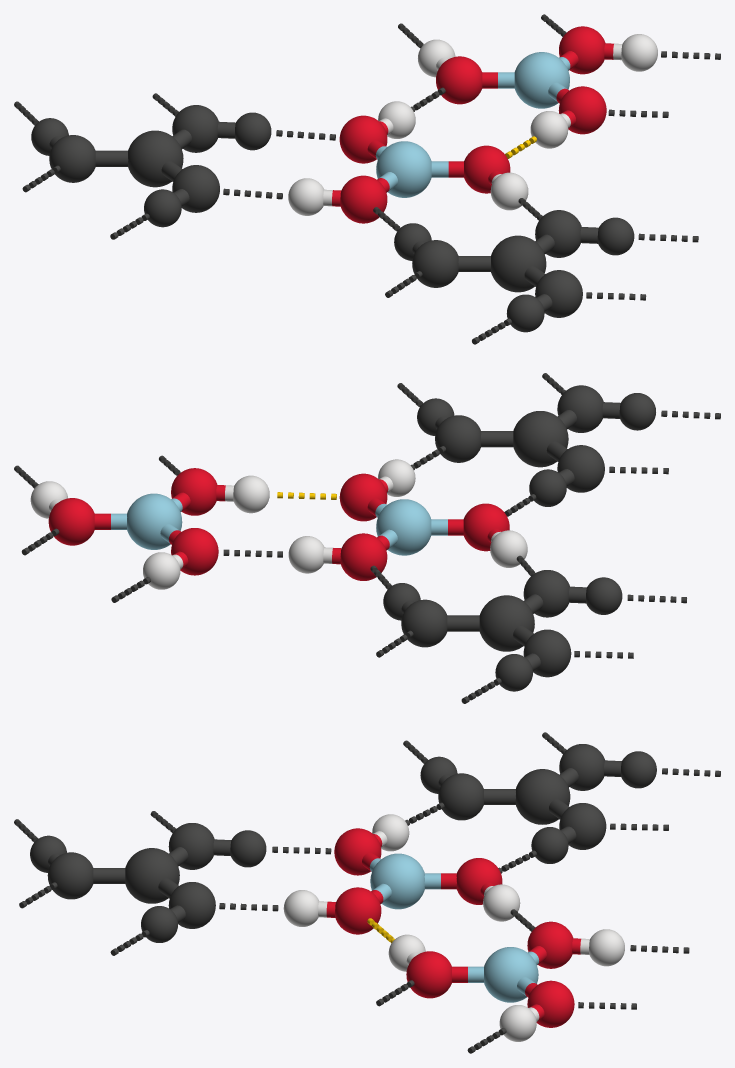
Rendered from jingti4.FBX.
3 renders of one model, top to bottom at view 1: azimuth 30°, elevation 25°; view 2: azimuth 150°, elevation 25°; view 3: azimuth 270°, elevation 25°, orthographic.
Visible parts, largest first — view 1: Box001; view 2: Box001; view 3: Box001.
Part boxes in pixels (x1,y1,x2,y2): Box001: [14, 14, 720, 344]; Box001: [14, 373, 720, 703]; Box001: [14, 732, 720, 1053].
Size of the model in its own units: 121 by 9 by 114.
